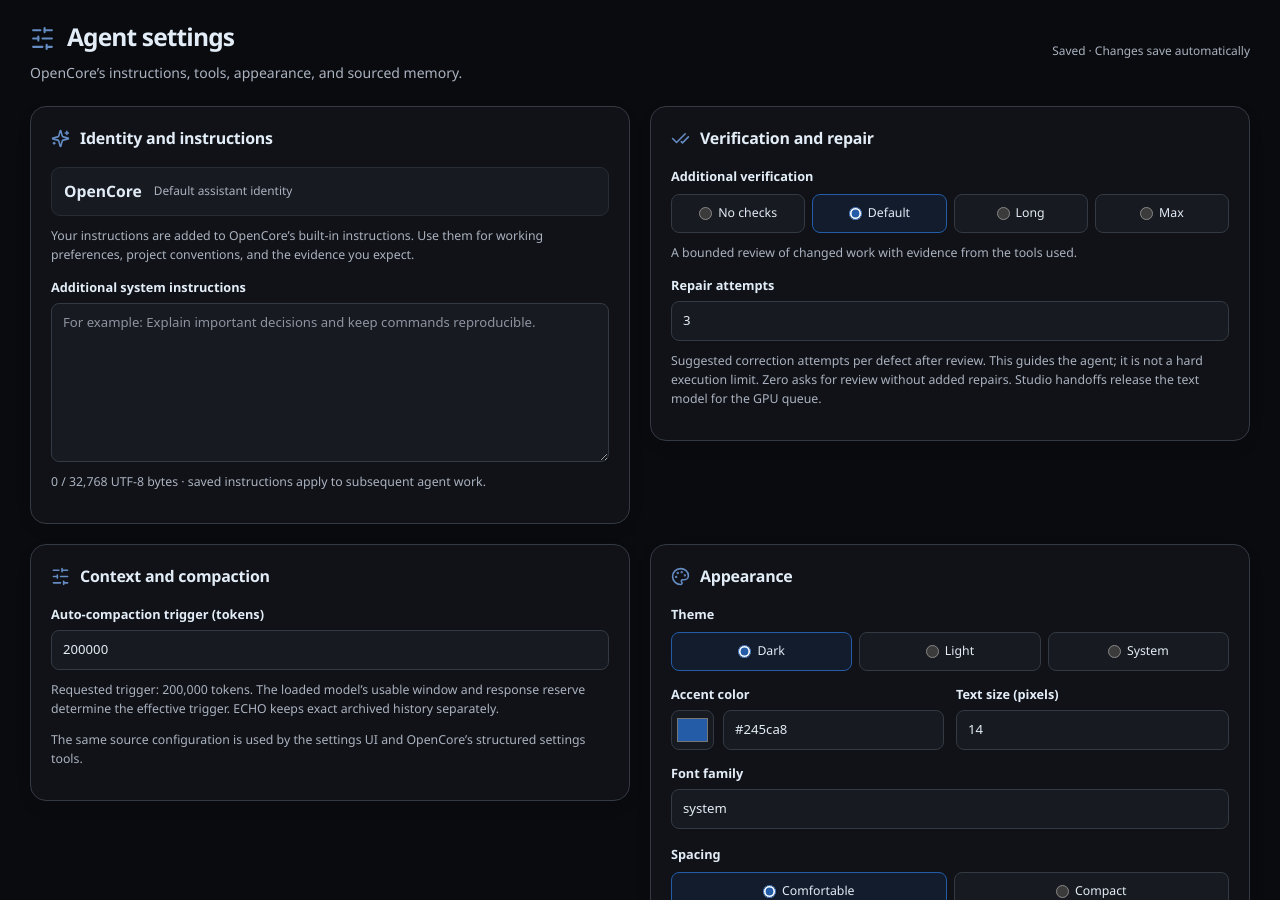
AgentPlatformSettings › adopts a newer tool value when the latest submitted edit is acknowledged
Replace the text in the text box labelled "Additional system instructions" with "Instruction from the settings panel" at [330, 383], box [51, 304, 609, 462]
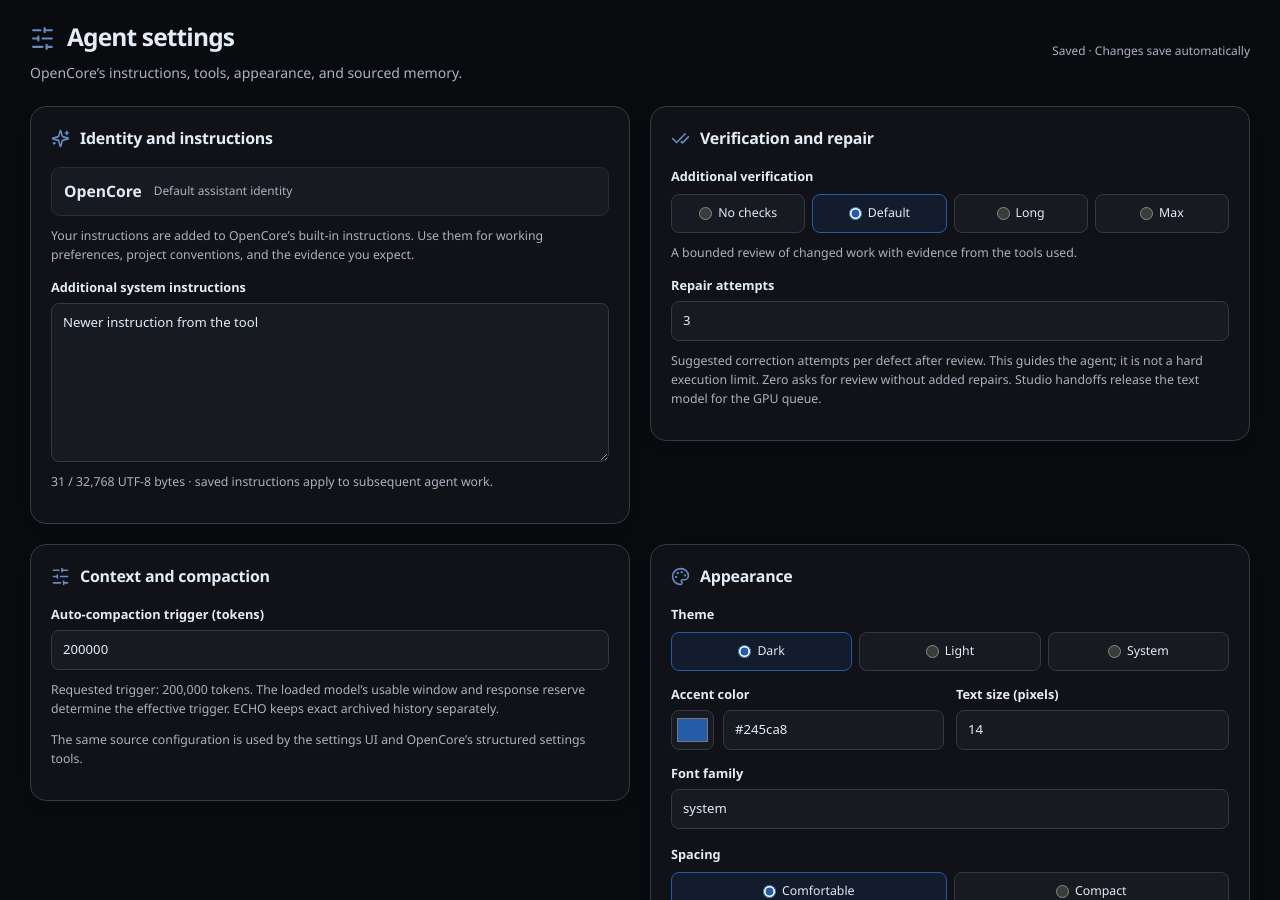
Expected: the message named "Agent settings save status" shows "Saved", [1052, 43, 1250, 59]
Expected: the text box labelled "Additional system instructions" holds "Newer instruction from the tool", [51, 304, 609, 462]
